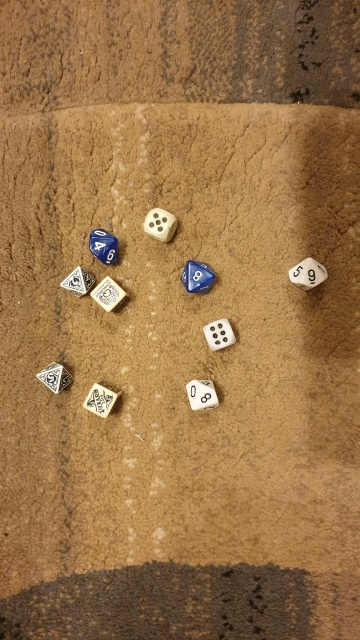d10-4: (81, 222, 122, 267)
d10-8: (178, 254, 218, 301), (182, 373, 222, 415)
d10-9: (284, 253, 332, 296)
d6-5: (138, 206, 179, 244)
d6-6: (199, 315, 242, 355)
d6p-1: (81, 376, 122, 423)
d6p-6: (87, 276, 131, 313)
d8p-2: (55, 266, 95, 299)
d8p-5: (32, 359, 76, 399)
